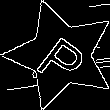P_NE: (30, 24, 92, 86)
